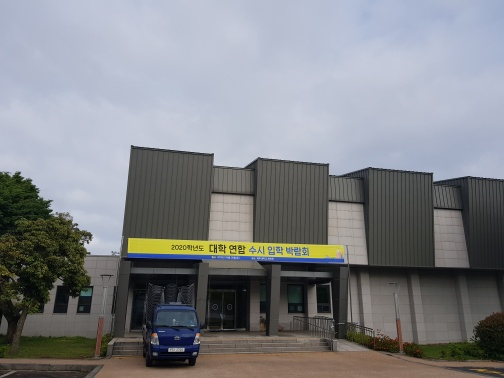Gym: (71, 119, 500, 363), (110, 134, 494, 248)
